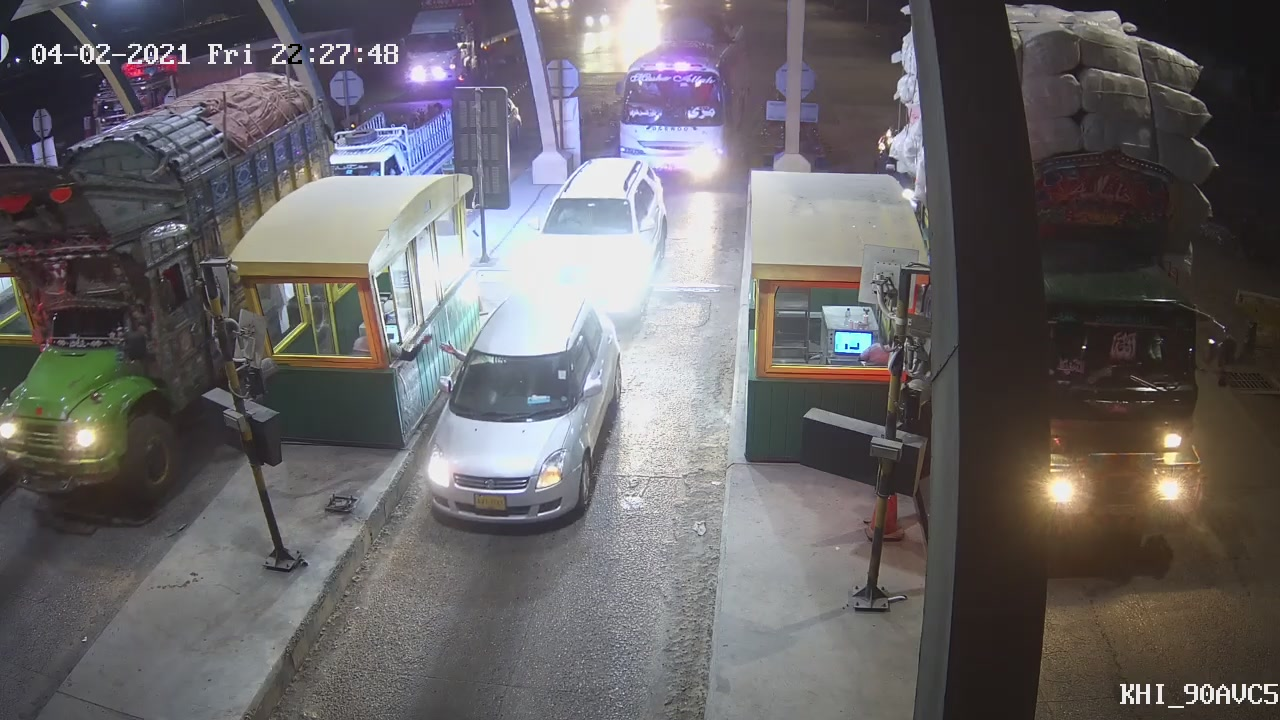F1: (423, 292, 629, 532)
